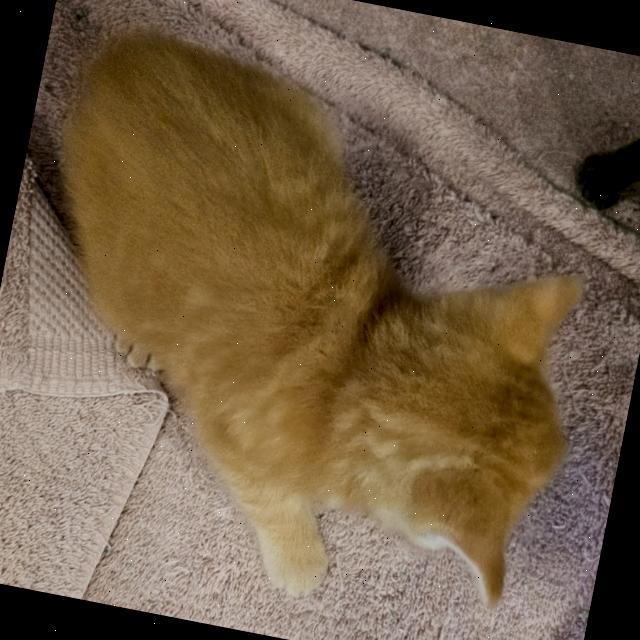manx_cat: (308, 216, 612, 630)
